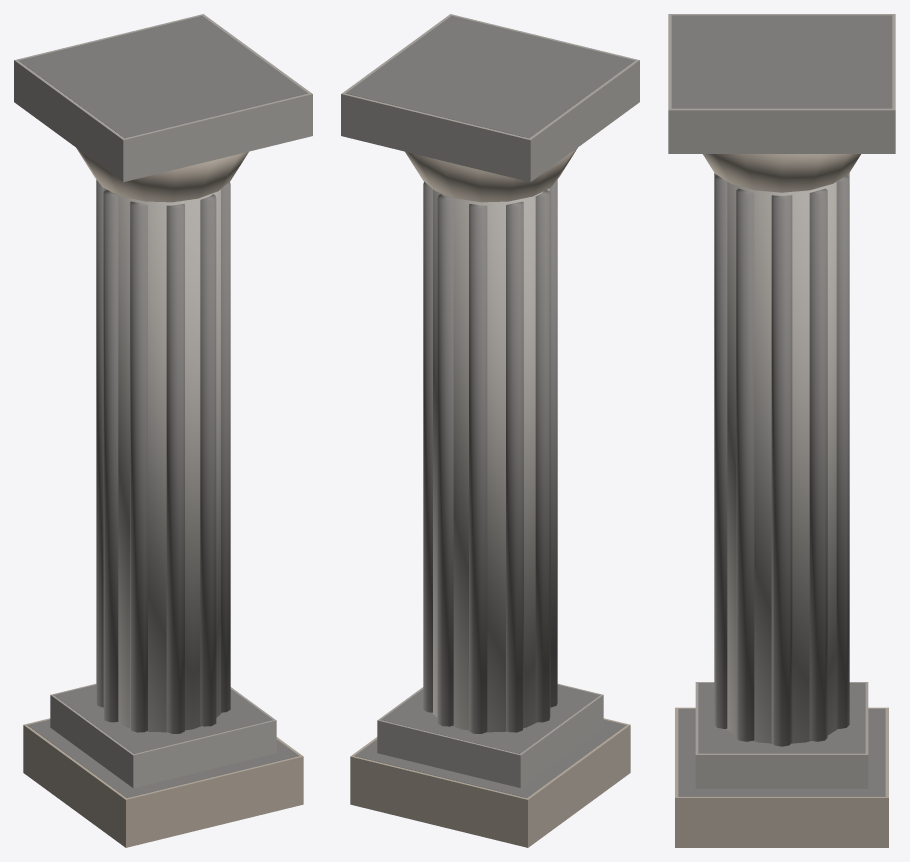
File: stone_column.fbx
3 renders of one model, left to right at view 1: azimuth 30°, elevation 25°; view 2: azimuth 150°, elevation 25°; view 3: azimuth 270°, elevation 25°, orthographic. The views are drawn at different scales.
Visible parts, largest first — view 1: StoneColumn; view 2: StoneColumn; view 3: StoneColumn.
Boxes of the visible parts, x1=… form: StoneColumn: x1=14, y1=14, x2=312, y2=847; StoneColumn: x1=341, y1=14, x2=639, y2=847; StoneColumn: x1=668, y1=14, x2=895, y2=847.
Size of the model in its own units: 1.32 by 4.74 by 1.32.
